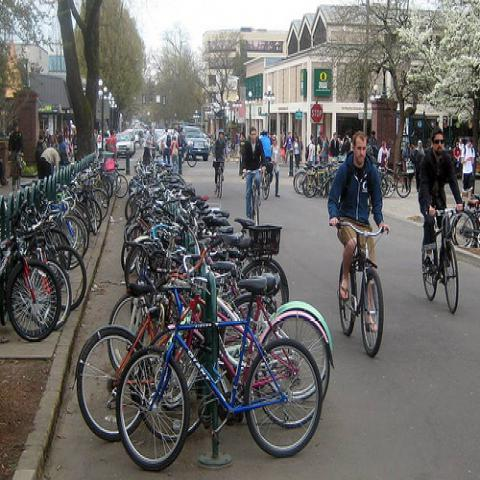car: (178, 127, 209, 161), (115, 133, 134, 158), (120, 130, 136, 153), (152, 129, 168, 151)
